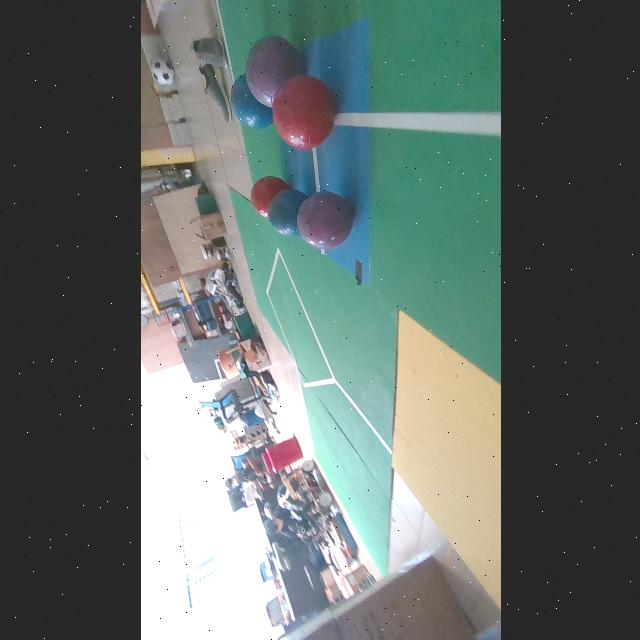B: (230, 75, 271, 129), (267, 190, 306, 236)
P: (245, 36, 304, 107), (295, 191, 353, 249)
R: (272, 76, 335, 150), (250, 178, 290, 218)
